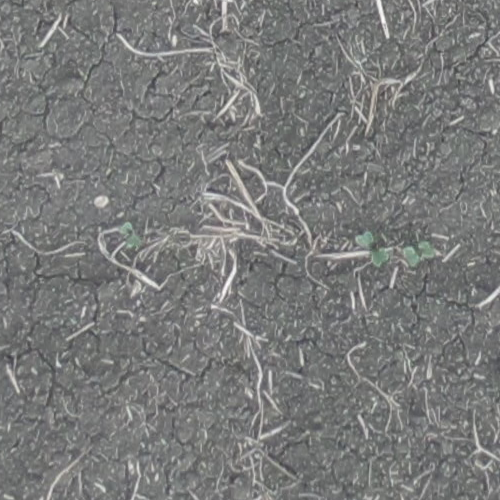isolated: (355, 230, 390, 267), (404, 240, 435, 268), (120, 223, 141, 248)
